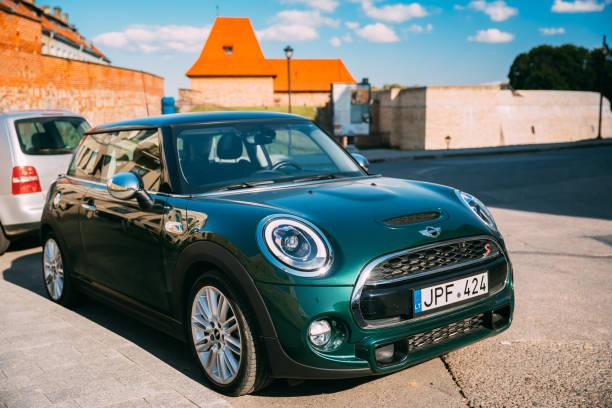mini: (413, 221, 450, 244)
